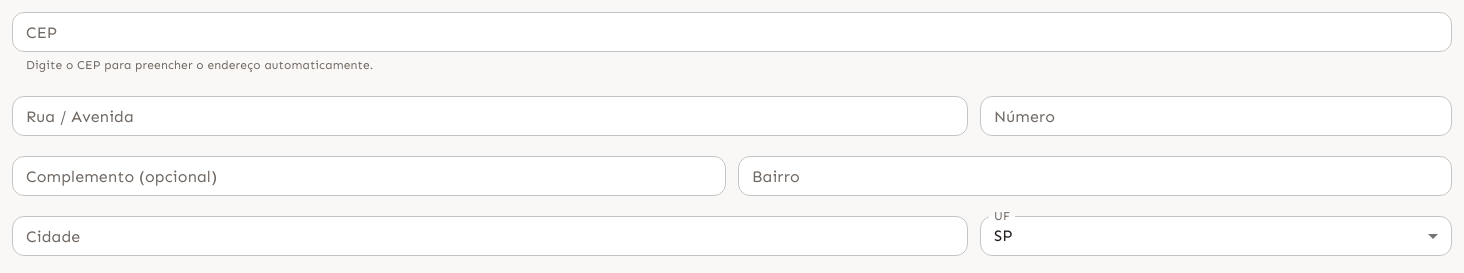
Test case: mostra CEP primeiro, consulta somente ao completar e preenche a UF controlada
Type "20040" into the field labelled "CEP" at (732, 32), box left=12, top=12, right=1452, bottom=52
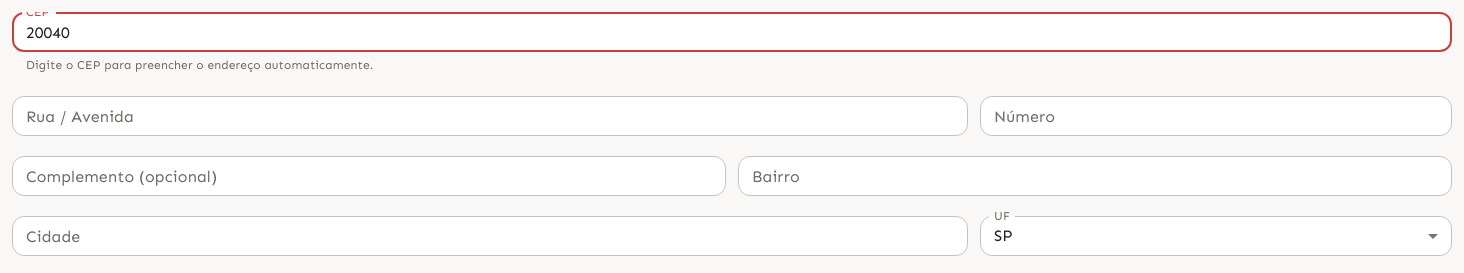
Type "002" into the field labelled "CEP" at (732, 32), box left=12, top=12, right=1452, bottom=52
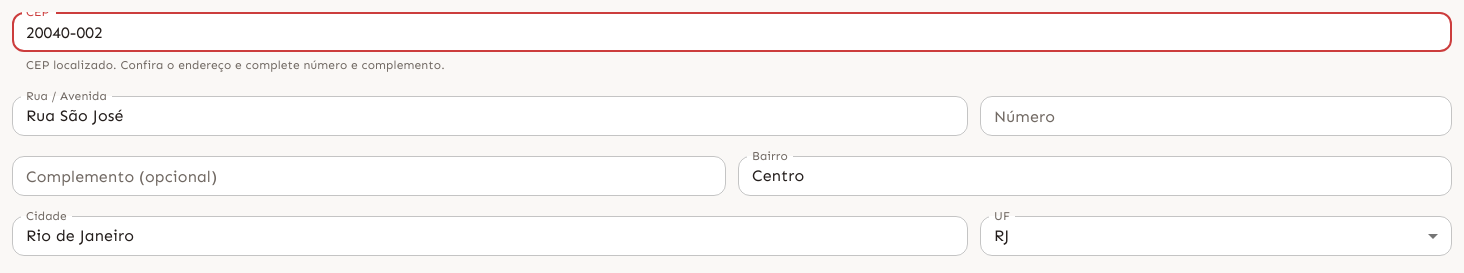
Expected: the field labelled "Rua / Avenida" holds "Rua São José", left=12, top=96, right=968, bottom=136
Expected: the field labelled "CEP" holds "20040-002", left=12, top=12, right=1452, bottom=52
Expected: the field labelled "Cidade" holds "Rio de Janeiro", left=12, top=216, right=968, bottom=256
